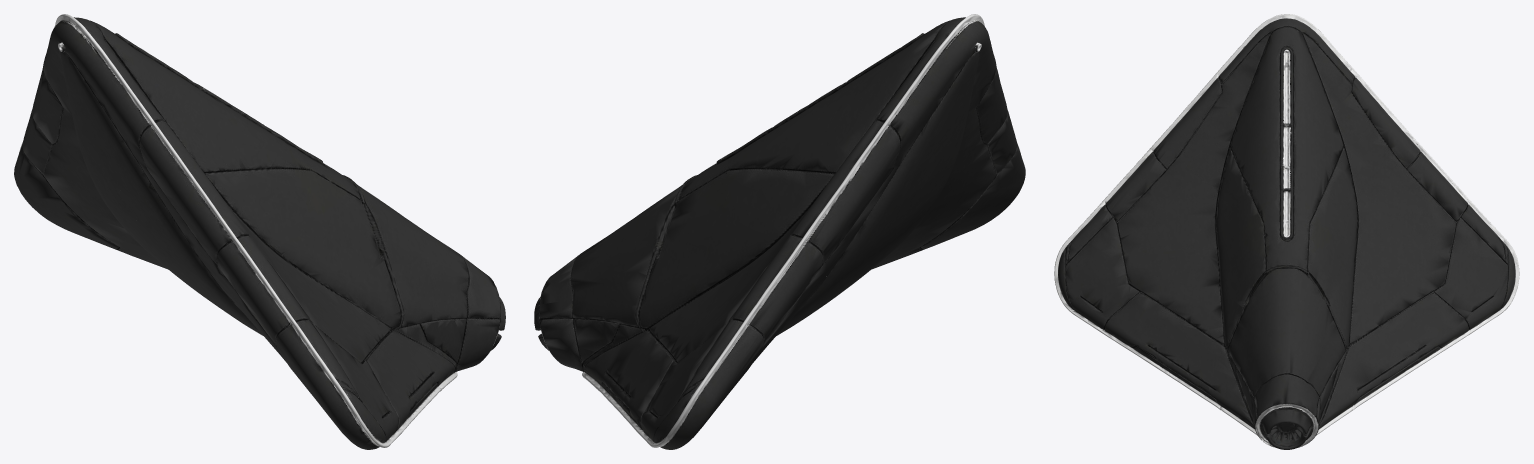
The model's file is Nave4.glb.
3 views of the same model, side by side, from view 1: azimuth 30°, elevation 25°; view 2: azimuth 150°, elevation 25°; view 3: azimuth 270°, elevation 25° (orthographic). The views are drawn at different scales.
Parts seen in each view (by area): view 1: tripo_node_96035526-9ff0-4b3b-86b3-c49993763f1e; view 2: tripo_node_96035526-9ff0-4b3b-86b3-c49993763f1e; view 3: tripo_node_96035526-9ff0-4b3b-86b3-c49993763f1e.
Boxes of the visible parts, x1,y1,x2,y2 form: tripo_node_96035526-9ff0-4b3b-86b3-c49993763f1e: (14, 14, 505, 449); tripo_node_96035526-9ff0-4b3b-86b3-c49993763f1e: (534, 14, 1025, 449); tripo_node_96035526-9ff0-4b3b-86b3-c49993763f1e: (1054, 14, 1519, 449).
Size of the model in its own units: 0.7389 by 0.7134 by 0.9801.
1 material, 1 textured.
